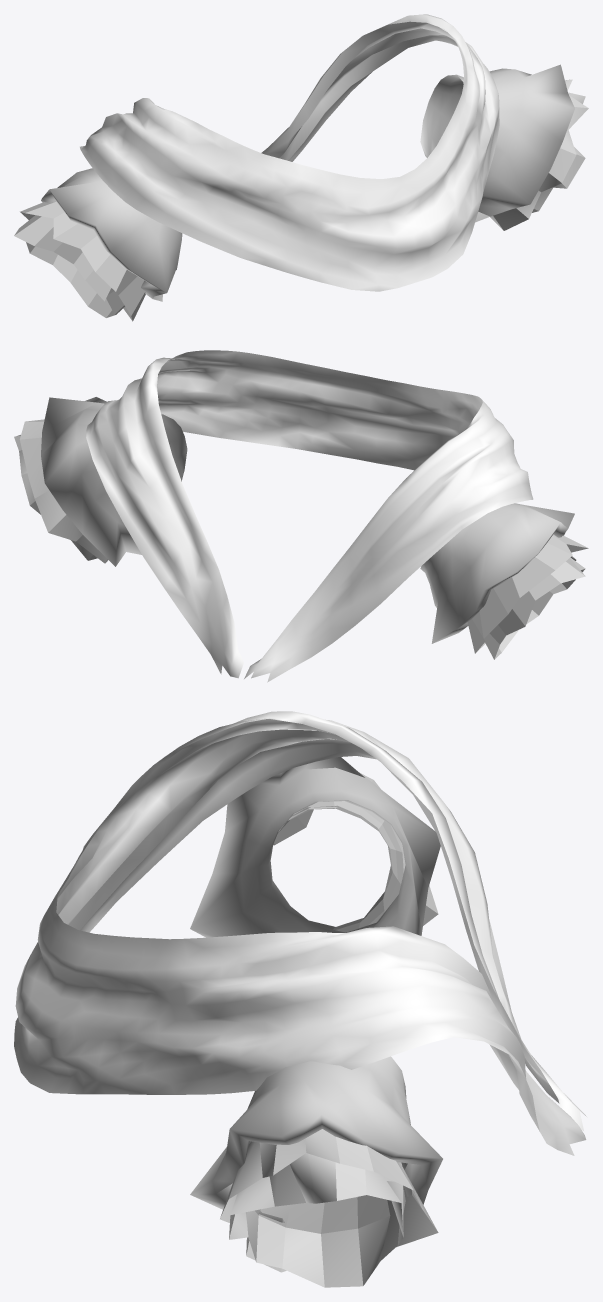
File: shoulder.glb
3 renders of one model, top to bottom at view 1: azimuth 30°, elevation 25°; view 2: azimuth 150°, elevation 25°; view 3: azimuth 270°, elevation 25°, orthographic. The views are drawn at different scales.
Parts seen in each view (by area): view 1: shoulder_2, shoulder_1; view 2: shoulder_2, shoulder_1; view 3: shoulder_2, shoulder_1.
Boxes of the visible parts, x1,y1,x2,y2 form: shoulder_2: [80, 14, 499, 291]; shoulder_1: [14, 64, 588, 321]; shoulder_2: [86, 350, 533, 682]; shoulder_1: [14, 397, 588, 659]; shoulder_2: [14, 711, 586, 1155]; shoulder_1: [190, 757, 442, 1287].
Bounding box in the file's own units: 0.5837 × 0.2144 × 0.3391.
2 materials, 1 textured.
